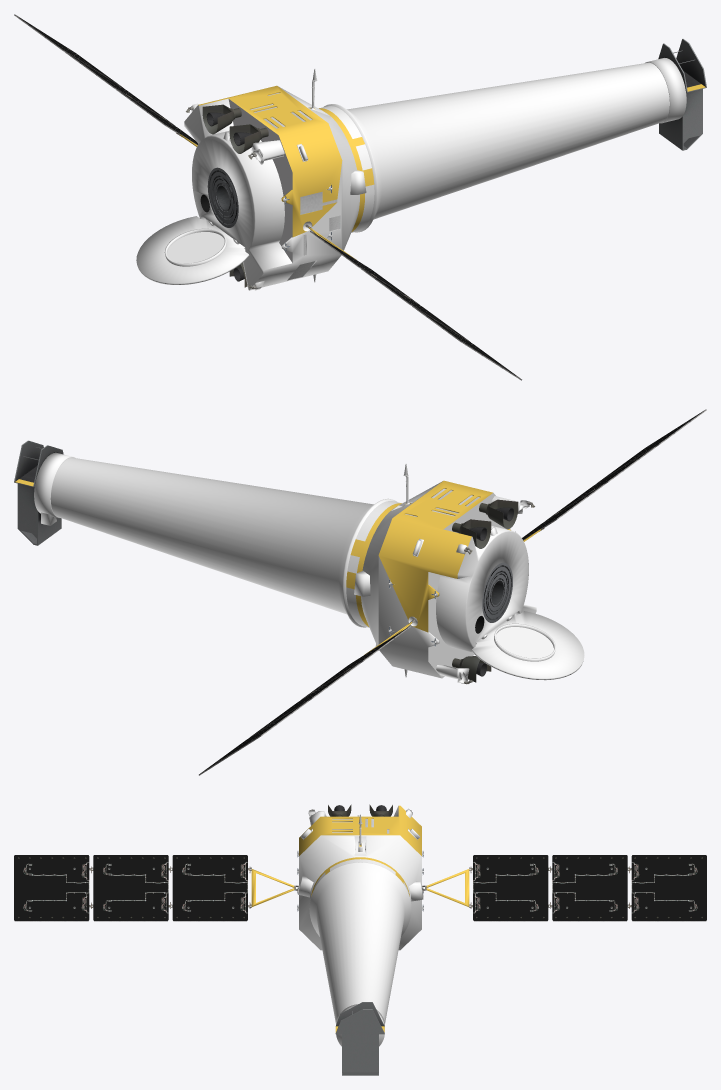
The model's file is sc_chandra.glb.
The picture shows the model from 3 angles, top to bottom: view 1: azimuth 30°, elevation 25°; view 2: azimuth 150°, elevation 25°; view 3: azimuth 270°, elevation 25°; orthographic projection. The views are drawn at different scales.
Visible parts, largest first — view 1: foil_silver, tex_01, BUS, AO_HRMA; view 2: foil_silver, BUS, tex_01, AO_HRMA; view 3: tex_01, foil_silver, BUS.
Boxes of the visible parts, x1=… form: foil_silver: x1=136, y1=58, x2=686, y2=290; tex_01: x1=14, y1=14, x2=706, y2=380; BUS: x1=180, y1=84, x2=705, y2=259; AO_HRMA: x1=207, y1=167, x2=238, y2=227; foil_silver: x1=34, y1=452, x2=584, y2=683; BUS: x1=15, y1=479, x2=540, y2=654; tex_01: x1=14, y1=409, x2=706, y2=775; AO_HRMA: x1=482, y1=562, x2=512, y2=622; tex_01: x1=14, y1=804, x2=706, y2=1075; foil_silver: x1=297, y1=806, x2=423, y2=1046; BUS: x1=251, y1=805, x2=469, y2=1032.
Bounding box in the file's own units: 1.13 × 0.4211 × 1.6.
5 materials, 3 textured.
